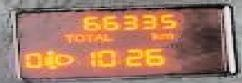0: (95, 48, 115, 67), (22, 52, 40, 68)
1: (84, 50, 93, 66)
2: (122, 48, 142, 65)
3: (137, 13, 155, 29), (120, 14, 138, 29)
5: (155, 13, 175, 28)
6: (142, 46, 162, 65), (80, 14, 100, 30), (100, 14, 118, 29)
X: (60, 33, 71, 42), (71, 31, 82, 40), (82, 32, 91, 42), (146, 31, 157, 39), (91, 31, 100, 40), (102, 31, 111, 40), (157, 33, 173, 38)
